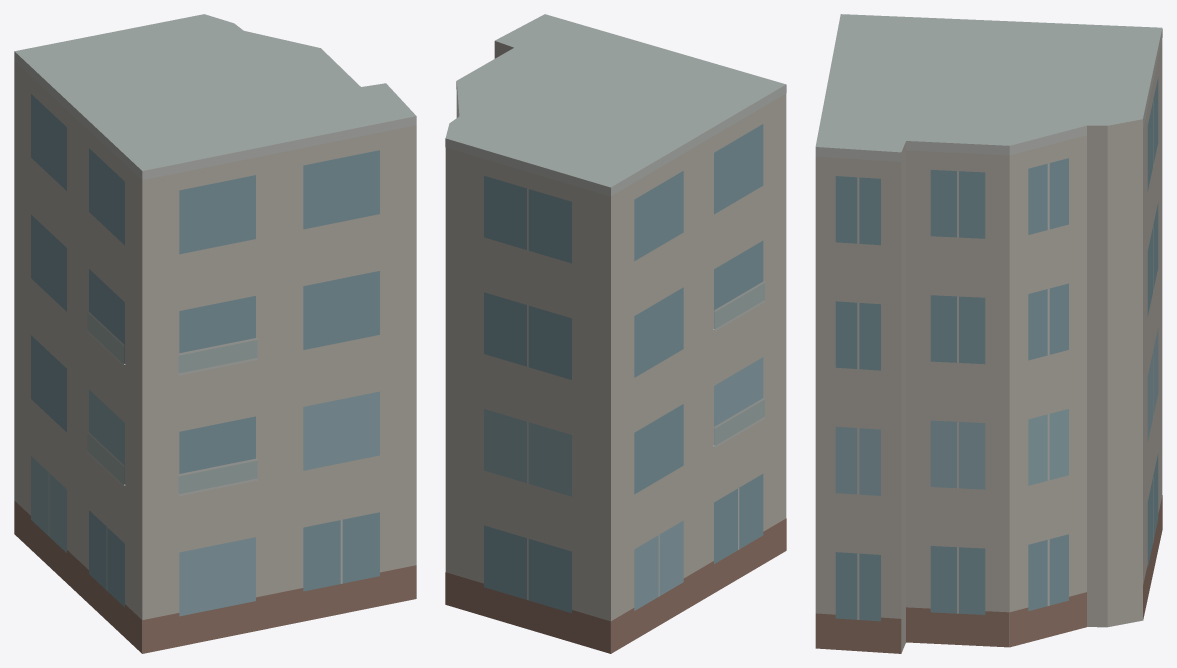
Rendered from survey-upis-32459854.glb.
3 views of the same model, side by side, from view 1: azimuth 30°, elevation 25°; view 2: azimuth 150°, elevation 25°; view 3: azimuth 270°, elevation 25° (orthographic). The views are drawn at different scales.
Parts seen in each view (by area): view 1: survey-upis-32459854.tmp; view 2: survey-upis-32459854.tmp; view 3: survey-upis-32459854.tmp.
Boxes of the visible parts, left/top/right/bottom form: survey-upis-32459854.tmp: left=14, top=14, right=416, bottom=653; survey-upis-32459854.tmp: left=445, top=14, right=786, bottom=653; survey-upis-32459854.tmp: left=815, top=14, right=1162, bottom=653.
Bounding box in the file's own units: 7.58 × 12.8 × 8.04.
